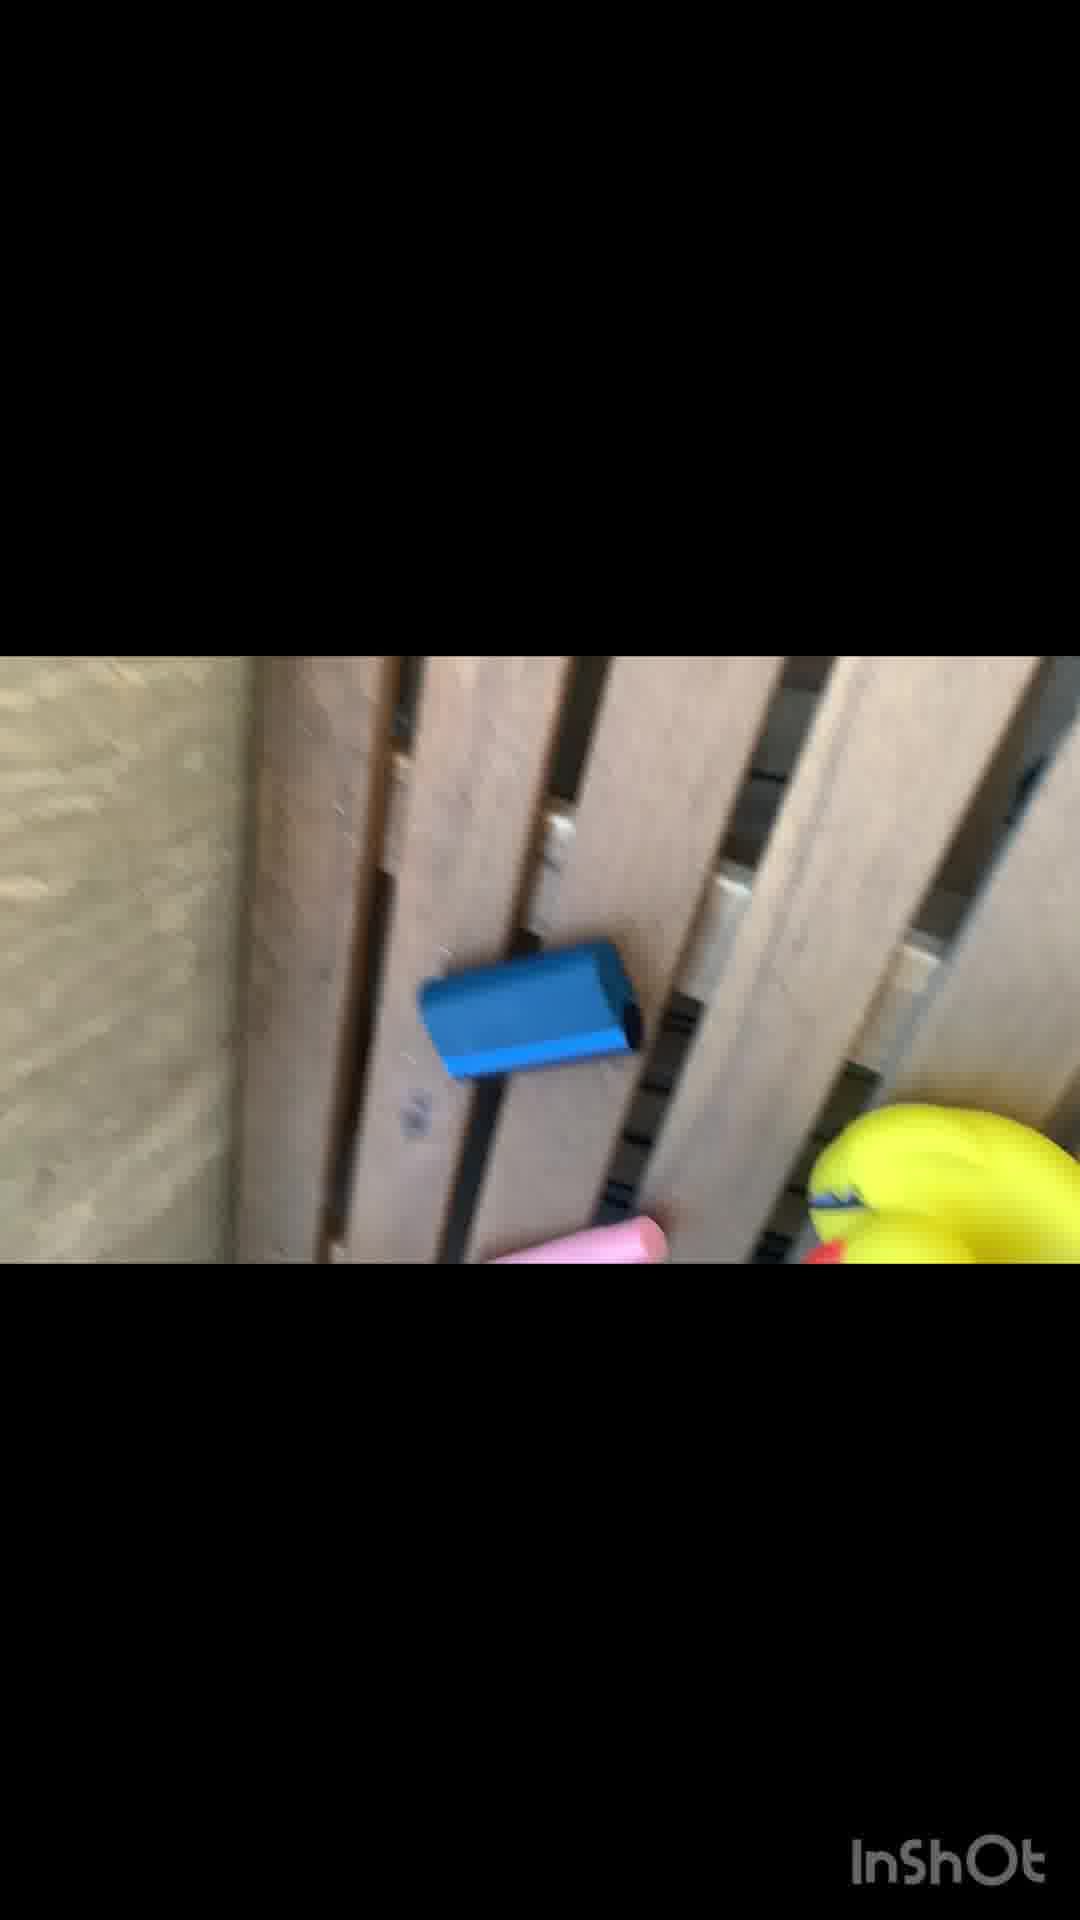duck: (803, 1091, 1080, 1269)
glo: (405, 939, 654, 1085)
